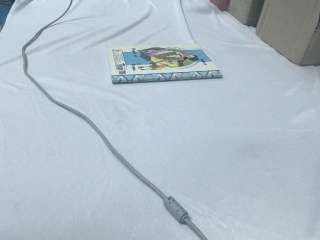book: (101, 37, 224, 86)
box: (256, 1, 320, 67)
